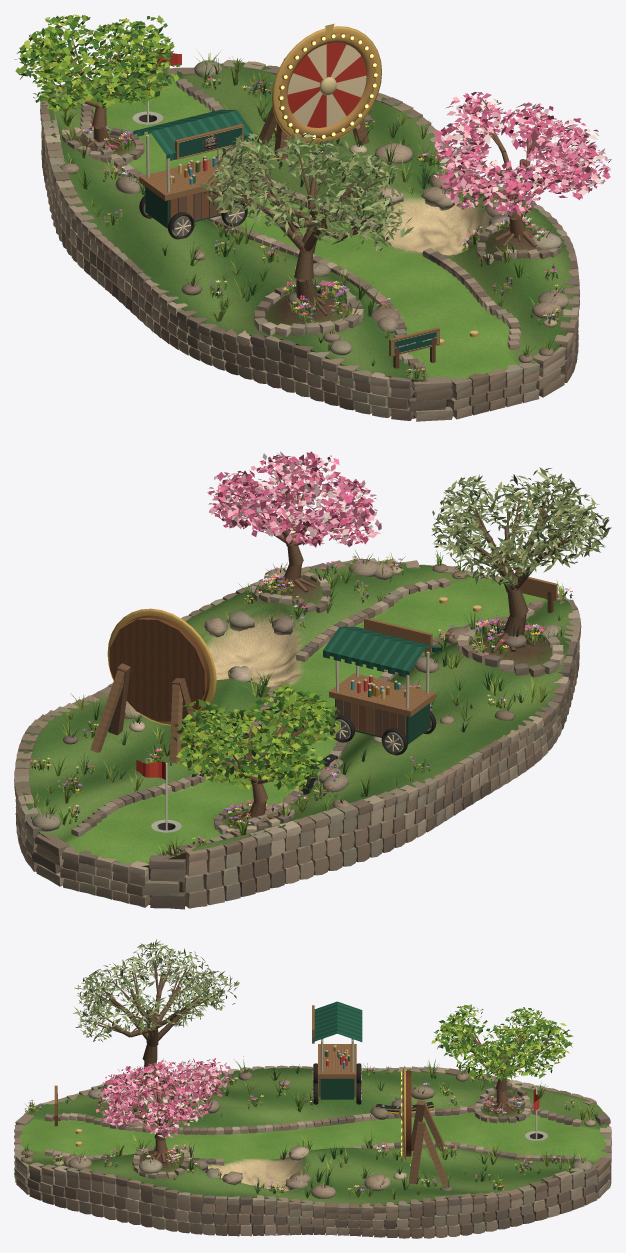
File: hole-05.glb
3 renders of one model, top to bottom at view 1: azimuth 30°, elevation 25°; view 2: azimuth 150°, elevation 25°; view 3: azimuth 270°, elevation 25°, orthographic. The views are drawn at different scales.
Parts seen in each view (by area): view 1: Hole 5 – TJ’s Grand Finale, PrizeWheelRotor; view 2: Hole 5 – TJ’s Grand Finale, PrizeWheelRotor; view 3: Hole 5 – TJ’s Grand Finale, PrizeWheelRotor.
Boxes of the visible parts, x1,y1,x2,y2 form: Hole 5 – TJ’s Grand Finale: (14, 14, 611, 421); PrizeWheelRotor: (272, 26, 381, 144); Hole 5 – TJ’s Grand Finale: (14, 451, 611, 909); PrizeWheelRotor: (107, 608, 216, 725); Hole 5 – TJ’s Grand Finale: (14, 939, 611, 1238); PrizeWheelRotor: (399, 1066, 411, 1161).
Bounding box in the file's own units: 1.63 × 0.8584 × 2.82.
Materials: 9 (5 with a texture image).
